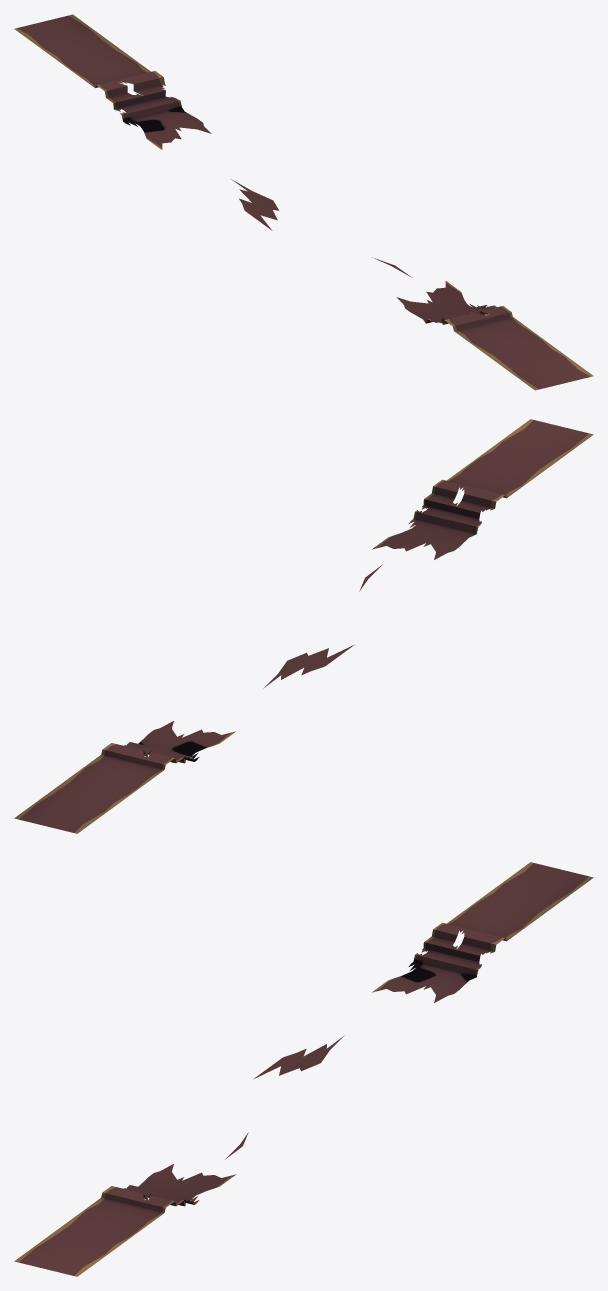
File: Capet_01.FBX
3 renders of one model, top to bottom at view 1: azimuth 30°, elevation 25°; view 2: azimuth 150°, elevation 25°; view 3: azimuth 330°, elevation 25°, orthographic. The views are drawn at different scales.
Visible parts, largest first — view 1: Capet_01; view 2: Capet_01; view 3: Capet_01.
Boxes of the visible parts, x1,y1,x2,y2 form: Capet_01: [14, 14, 593, 390]; Capet_01: [14, 419, 593, 833]; Capet_01: [14, 862, 593, 1276].
Size of the model in its own units: 3.24 by 0.6621 by 35.54.
